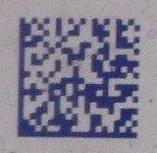datamatrix: (19, 18, 141, 139)
